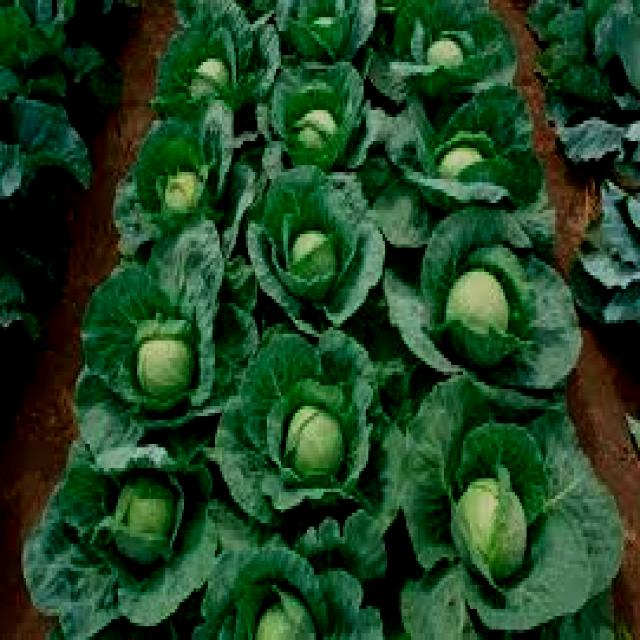beef: (442, 463, 548, 599), (429, 255, 528, 366), (100, 463, 190, 585), (269, 371, 352, 487), (123, 296, 204, 411), (418, 106, 504, 206), (411, 0, 503, 83), (274, 208, 348, 311), (279, 68, 355, 167), (180, 30, 240, 122), (251, 574, 329, 640), (157, 136, 216, 220), (305, 0, 361, 62)
